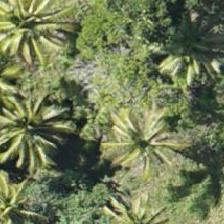coconut_tree: (89, 92, 179, 182), (136, 0, 223, 86), (0, 74, 66, 164), (0, 0, 64, 63)
